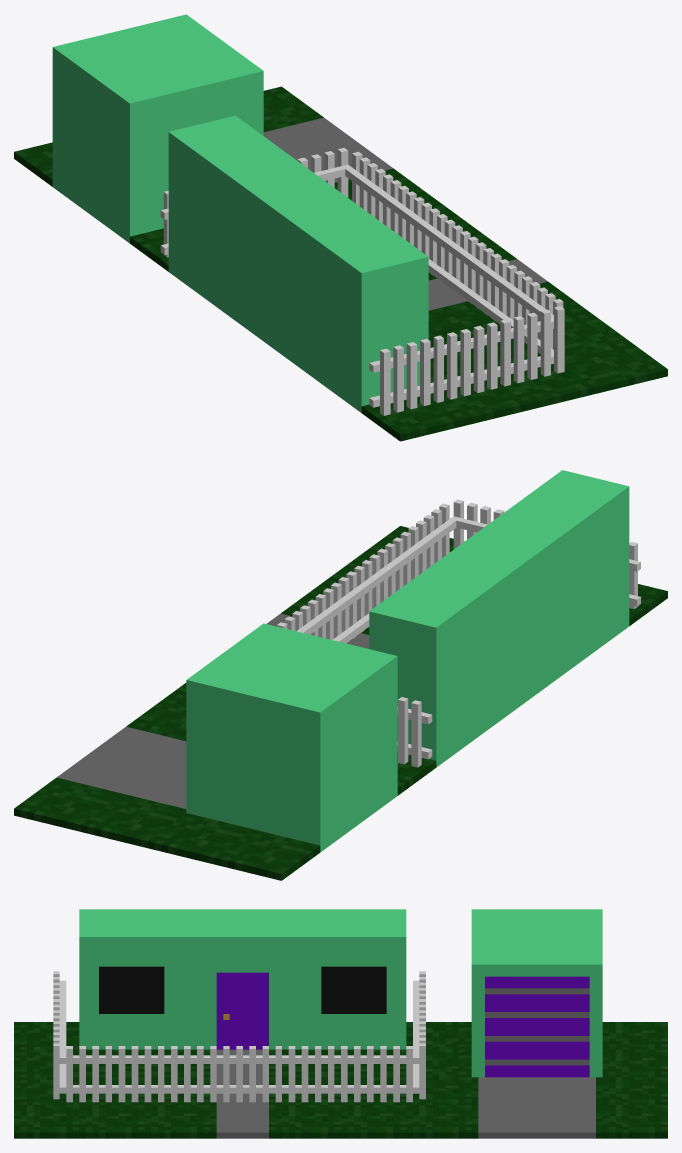
Rendered from house_light_green.fbx.
The picture shows the model from 3 angles, top to bottom: view 1: azimuth 30°, elevation 25°; view 2: azimuth 150°, elevation 25°; view 3: azimuth 270°, elevation 25°; orthographic projection. The views are drawn at different scales.
Visible parts, largest first — view 1: Union; view 2: Union; view 3: Union.
Boxes of the visible parts, x1=… form: Union: x1=14, y1=14, x2=667, y2=441; Union: x1=14, y1=470, x2=667, y2=880; Union: x1=14, y1=909, x2=667, y2=1138.
Size of the model in its own units: 40 by 20 by 100.
